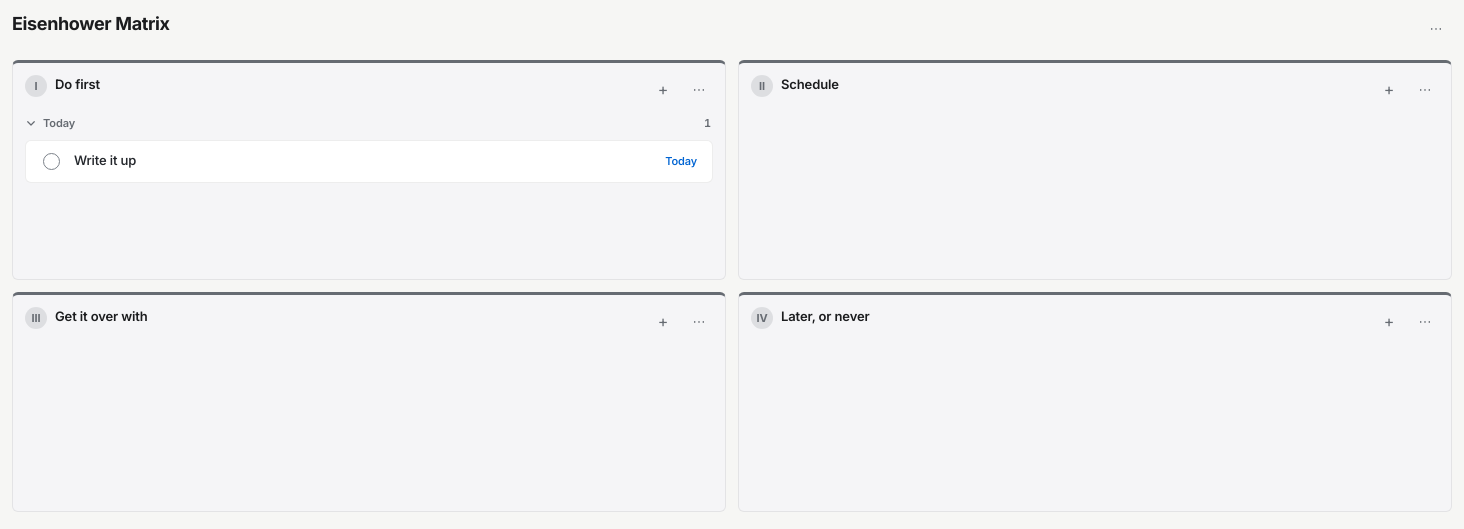
it: what a box is divided into › collapses a group and leaves its count on screen
Click the button with class "ff-matrix-group-head".
click(59, 123)  # box [25,113,713,134]
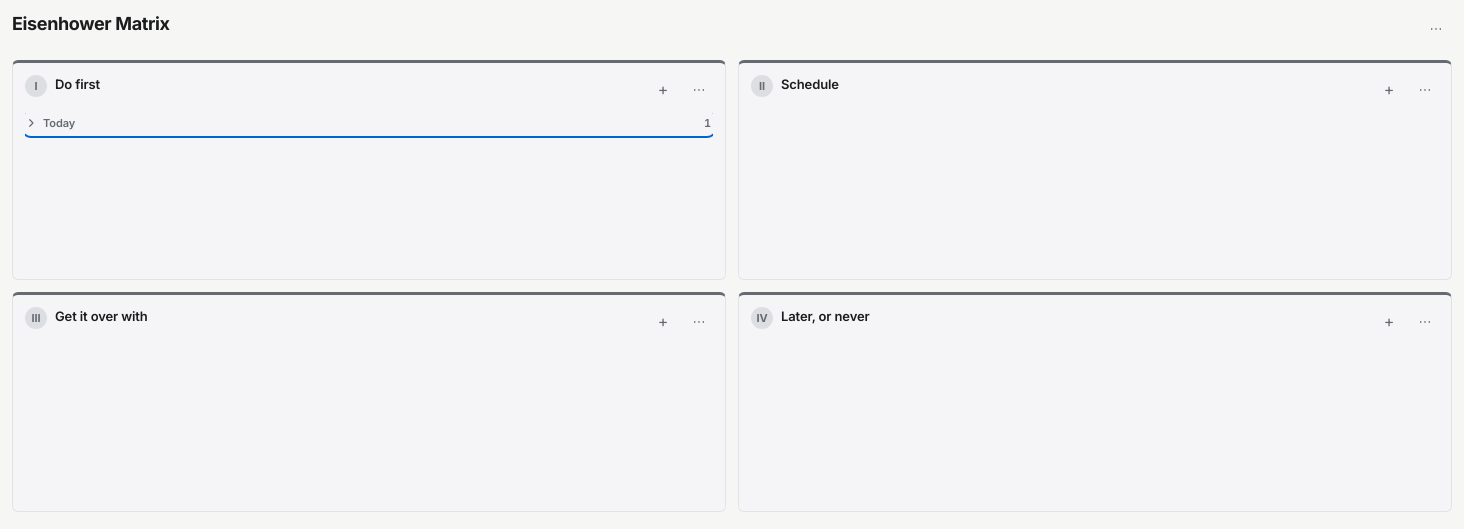
Check: the text with class "ff-matrix-group-count" reads "1", box [704,116,711,130]
Check: the button with class "ff-matrix-group-head" is collapsed, box [25,113,713,134]
Check: the button "Write it up" is gone
